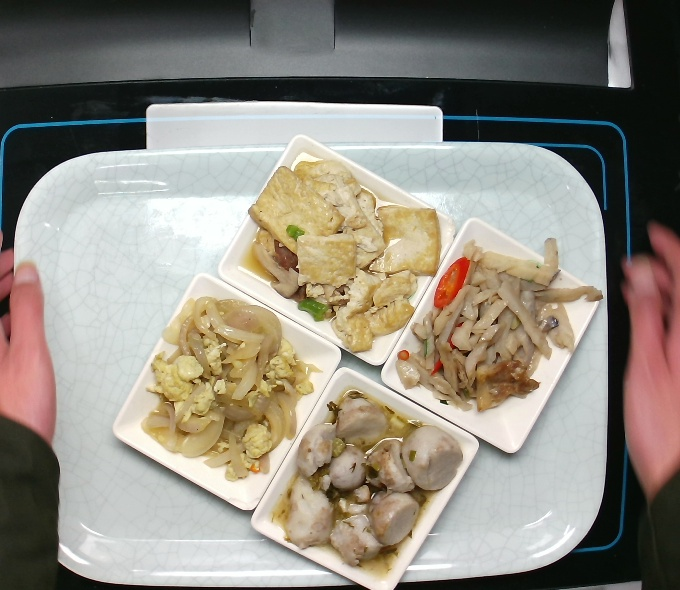wcq-JiaChangDouFu: (247, 154, 443, 351)
wcq-QingChaoOuPian: (393, 233, 602, 417)
wcq-YangCongChaoDan: (135, 290, 319, 483)
wcq-YangYu: (284, 390, 470, 576)
